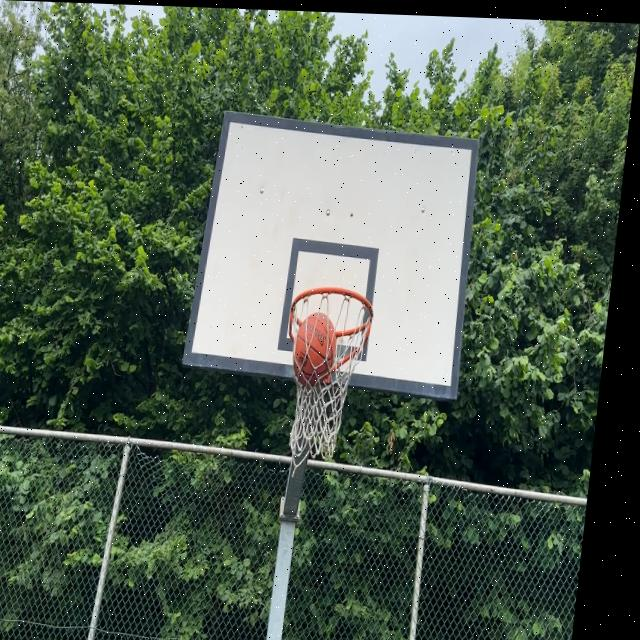Goal: (291, 315, 339, 386)
